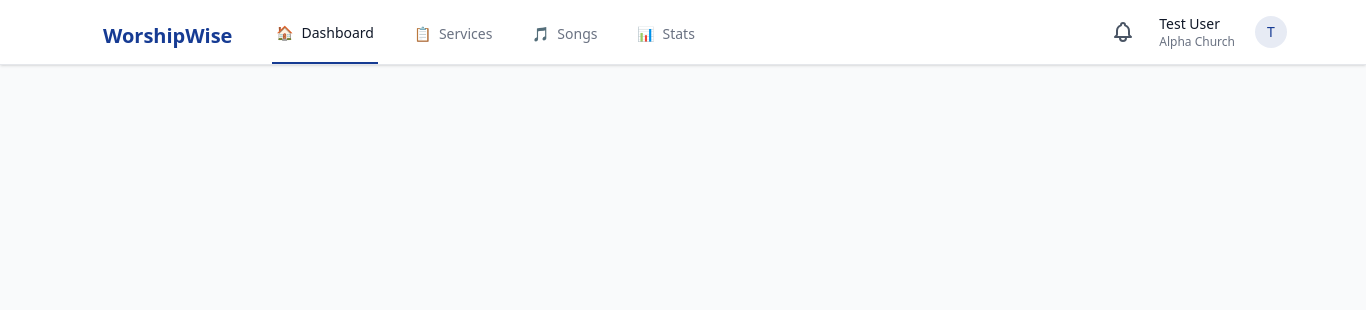
Test: Navigation - Church section › shows Church section with add button and highlights current church in user menu (desktop)
# Open user menu
Click the button named "open user menu": (1271, 32) [1251,12,1291,52]
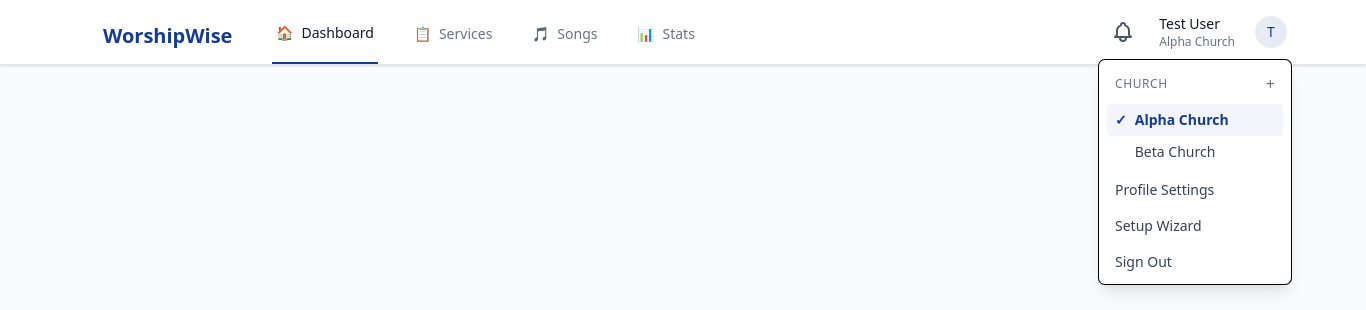
Result: the text "Church" is shown at [1115,76,1168,92]
Result: the text "✓" is shown at [1115,110,1127,130]
Result: the text "Beta Church" is shown at [1135,142,1215,162]
